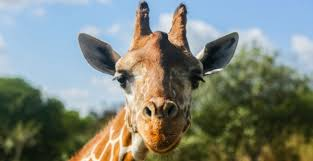Jirafa: (67, 1, 249, 161)
